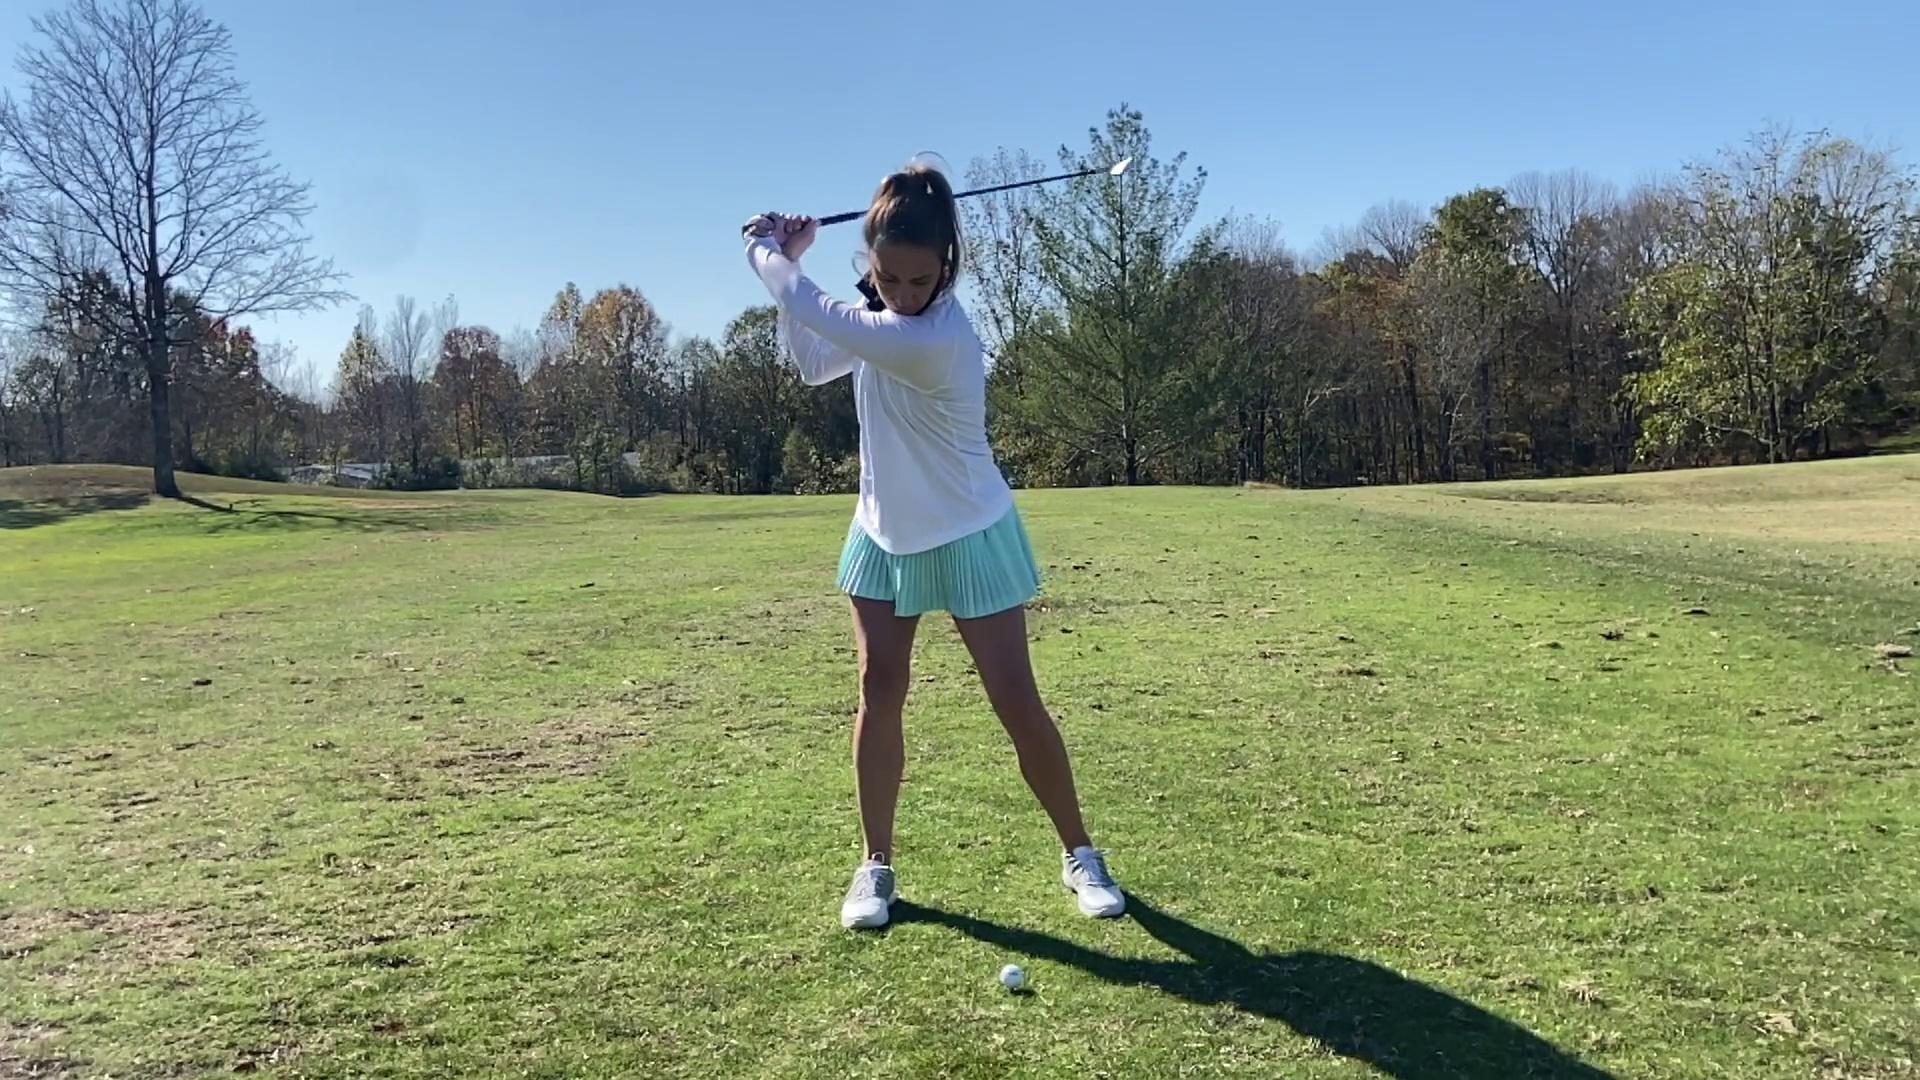ClubHead: (1087, 145, 1145, 185)
GolfBall: (1000, 963, 1025, 990)
